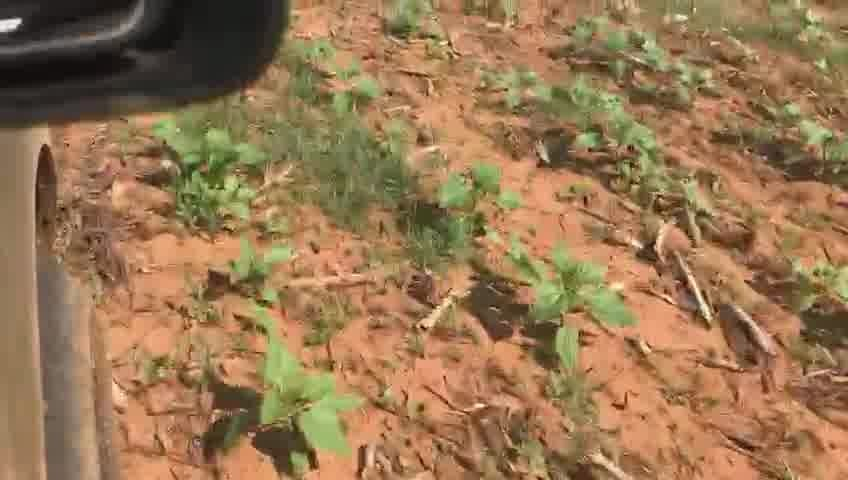sunflower: (528, 247, 637, 366), (251, 349, 361, 465), (185, 136, 256, 228), (431, 163, 531, 219), (223, 236, 295, 311), (370, 111, 422, 161), (329, 73, 383, 112)
